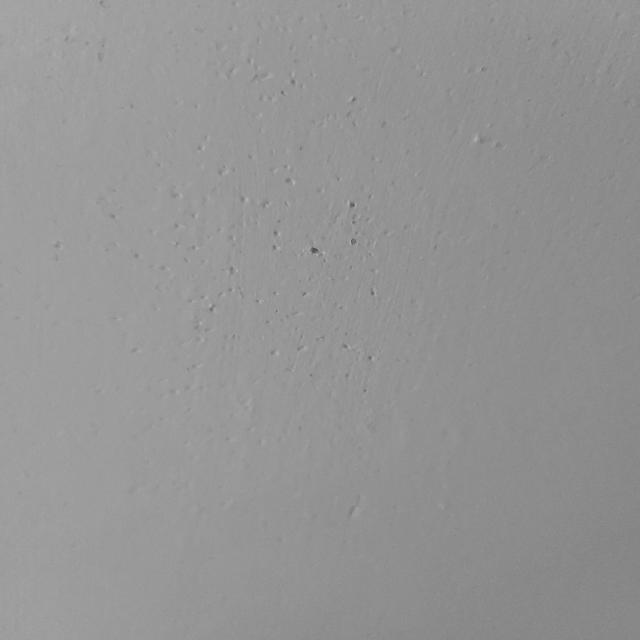rough and patchy surface: (45, 164, 415, 532), (0, 2, 640, 162)
